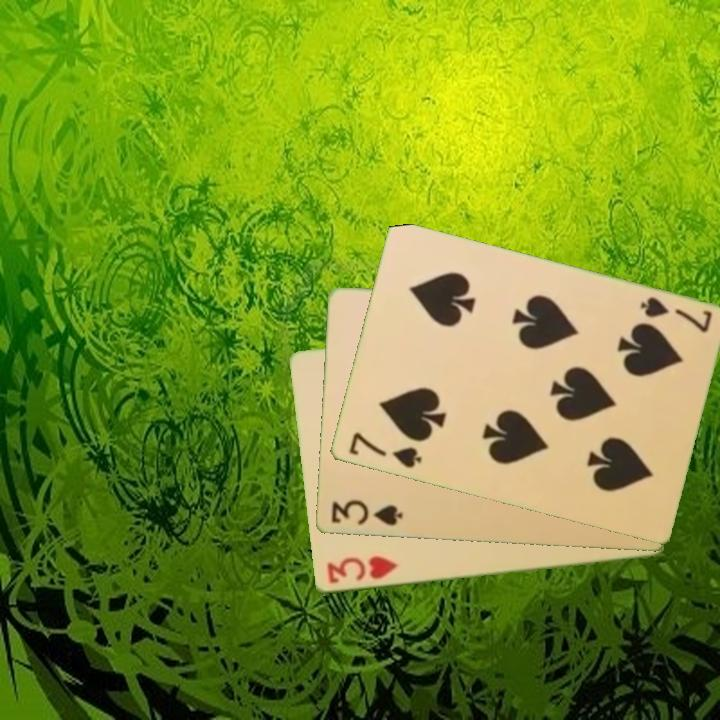3h: (322, 552, 400, 587)
3s: (327, 497, 406, 529)
7s: (345, 429, 424, 472), (636, 293, 715, 336)
